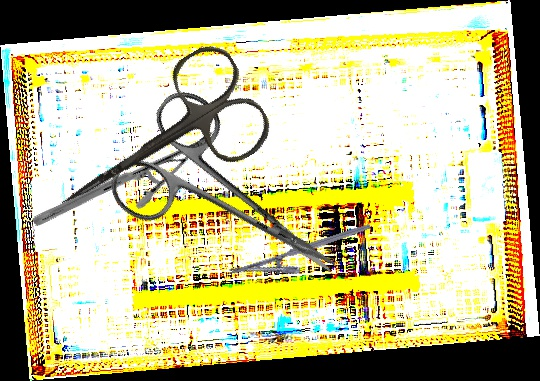Iris Scissors: (98, 81, 371, 329), (30, 36, 280, 252)
Needle Holder: (30, 76, 218, 282), (227, 222, 378, 295)
